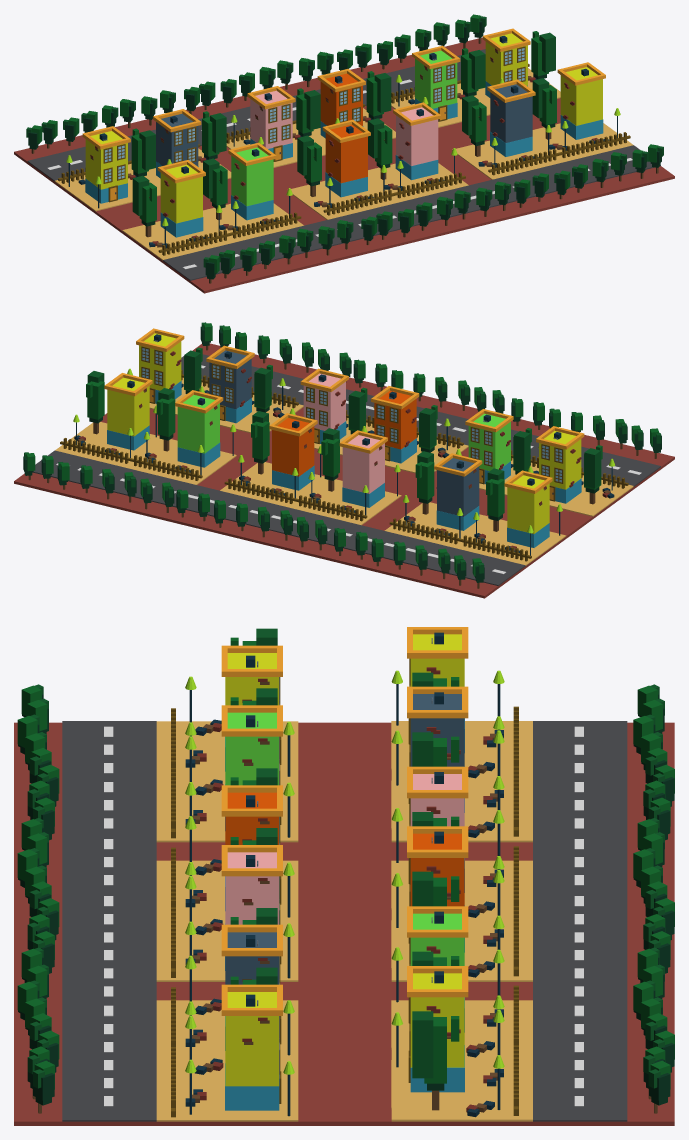
The model's file is gamescene.fbx.
The picture shows the model from 3 angles, top to bottom: view 1: azimuth 30°, elevation 25°; view 2: azimuth 150°, elevation 25°; view 3: azimuth 270°, elevation 25°; orthographic projection. The views are drawn at different scales.
Parts seen in each view (by area): view 1: land, Cube.013, Cube.012, building2.008, building2.006, building2.011, building2.007, building2.009, building2.010, building2, building2.004, building2.002 (+42 smaller); view 2: land, Cube.012, Cube.013, building2.004, building2, building2.002, building2.001, building2.003, building2.005, building2.011, building2.009, building2.007 (+43 smaller); view 3: land, Cube.013, Cube.012, yard.005, building2.006, yard.006, yard.001, yard.010, yard.008, yard.003, yard.002, yard.004 (+34 smaller).
Boxes of the visible parts, <box> form: land: <box>14,37,674,293</box>; Cube.013: <box>163,145,660,280</box>; Cube.012: <box>27,49,485,181</box>; building2.008: <box>395,107,438,180</box>; building2.006: <box>560,67,603,139</box>; building2.011: <box>160,164,203,237</box>; building2.007: <box>490,84,532,156</box>; building2.009: <box>325,124,367,197</box>; building2.010: <box>231,147,273,220</box>; building2: <box>85,131,127,203</box>; building2.004: <box>415,50,457,119</box>; building2.002: <box>250,90,292,159</box>; land: <box>14,343,674,598</box>; Cube.012: <box>32,450,525,585</box>; Cube.013: <box>181,354,660,486</box>; building2.004: <box>177,395,220,467</box>; building2: <box>507,475,549,547</box>; building2.002: <box>342,435,384,507</box>; building2.001: <box>436,458,479,530</box>; building2.003: <box>272,418,314,490</box>; building2.005: <box>107,377,149,450</box>; building2.011: <box>539,431,581,503</box>; building2.009: <box>374,390,416,463</box>; building2.007: <box>209,350,251,423</box>; land: <box>14,722,674,1125</box>; Cube.013: <box>62,721,156,1121</box>; Cube.012: <box>533,721,627,1121</box>; yard.005: <box>391,1060,532,1121</box>; building2.006: <box>225,992,279,1110</box>; yard.006: <box>156,1060,298,1121</box>; yard.001: <box>391,780,532,842</box>; yard.010: <box>156,781,298,842</box>; yard.008: <box>156,920,298,981</box>; yard.003: <box>391,920,532,981</box>; yard.002: <box>391,860,532,920</box>; yard.004: <box>391,1000,532,1059</box>.
Bounding box in the file's own units: 20086 × 2594 × 14008.
